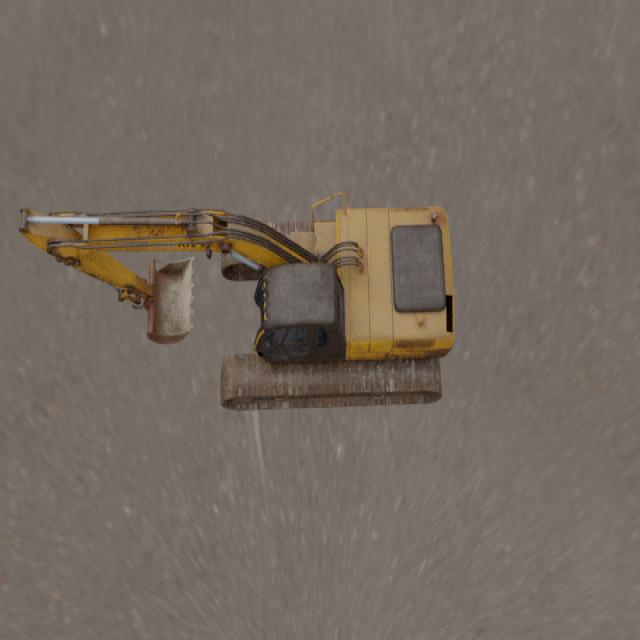excavator: (18, 205, 454, 411)
